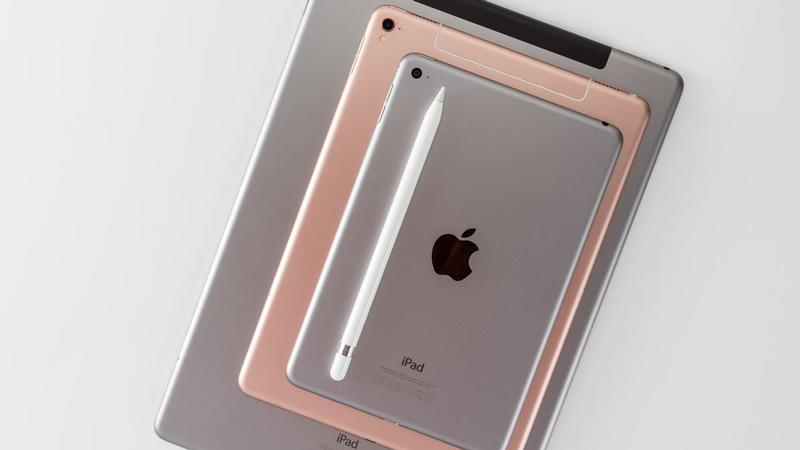apple: (424, 210, 487, 292)
